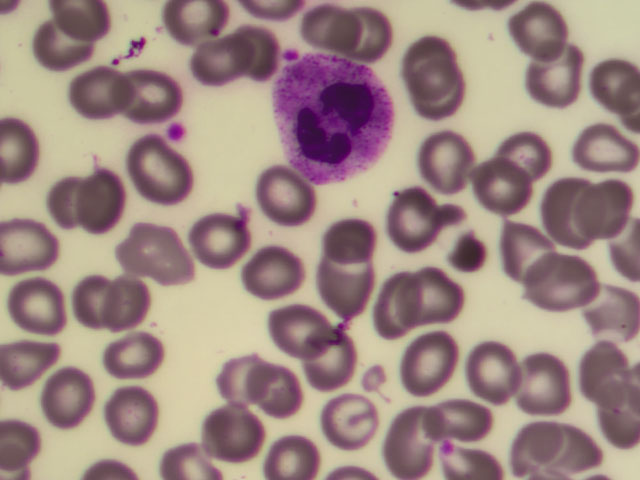RBC: (147, 425, 211, 480), (188, 214, 252, 268), (65, 64, 129, 118), (132, 63, 196, 117), (30, 15, 94, 69), (27, 177, 91, 231), (59, 171, 123, 225), (1, 225, 65, 279), (130, 135, 194, 189), (123, 219, 187, 273), (105, 277, 169, 331), (60, 275, 124, 329), (9, 278, 73, 332), (3, 335, 67, 389), (33, 367, 97, 421), (111, 329, 175, 383), (104, 382, 168, 436), (187, 408, 251, 462), (201, 359, 265, 413), (242, 366, 306, 420), (270, 303, 334, 357), (309, 337, 373, 391), (241, 245, 305, 299), (261, 164, 325, 218), (328, 207, 392, 261), (315, 260, 379, 314), (358, 275, 422, 329), (400, 264, 464, 318), (381, 193, 445, 247), (409, 132, 473, 186), (413, 65, 477, 119), (394, 25, 458, 79), (340, 3, 404, 57), (187, 33, 251, 87), (217, 15, 281, 69), (317, 394, 377, 451), (269, 423, 329, 480), (389, 419, 449, 476), (424, 386, 484, 443), (392, 337, 452, 394), (459, 345, 519, 402), (519, 355, 579, 412), (508, 419, 568, 476), (549, 421, 609, 478), (580, 345, 640, 402), (580, 277, 640, 334), (529, 255, 589, 312), (499, 218, 559, 275), (469, 158, 529, 215), (491, 135, 551, 192), (535, 176, 595, 233), (574, 178, 634, 235), (575, 127, 635, 184), (580, 52, 640, 109), (521, 45, 581, 102), (285, 1, 349, 54), (510, 1, 570, 57), (162, 1, 226, 39), (597, 401, 640, 451), (442, 443, 498, 480), (167, 121, 188, 144)
WBC: (266, 54, 397, 183)
